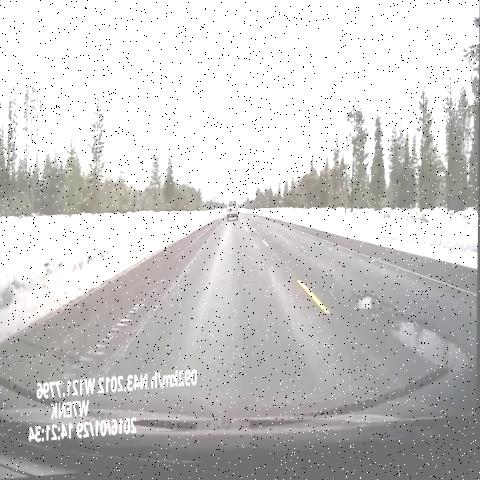pothole: (384, 297, 478, 394), (350, 292, 391, 326)
